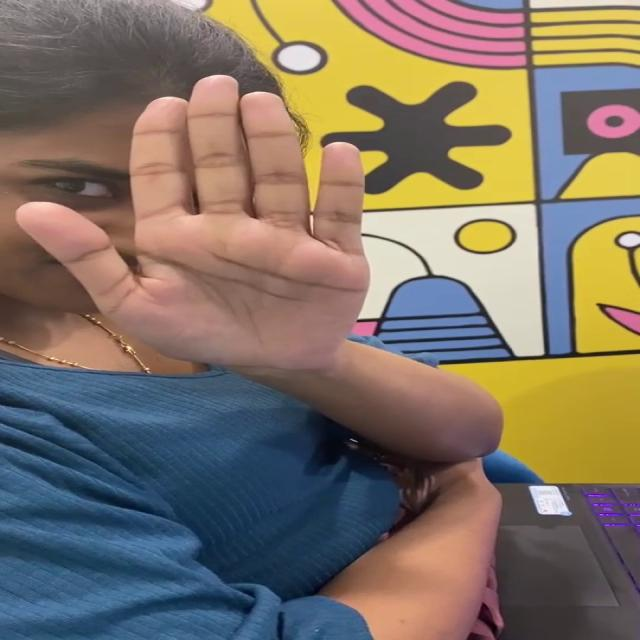no-gloves: (19, 52, 380, 382)
